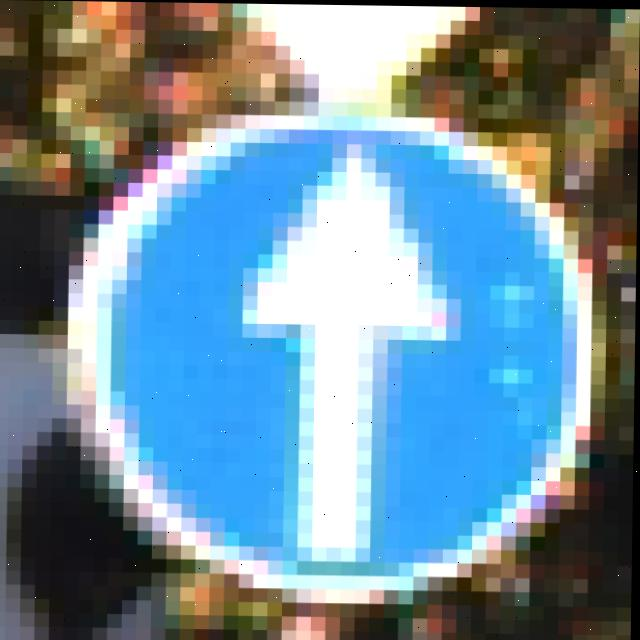compulsory_ahead: (104, 87, 576, 616)
